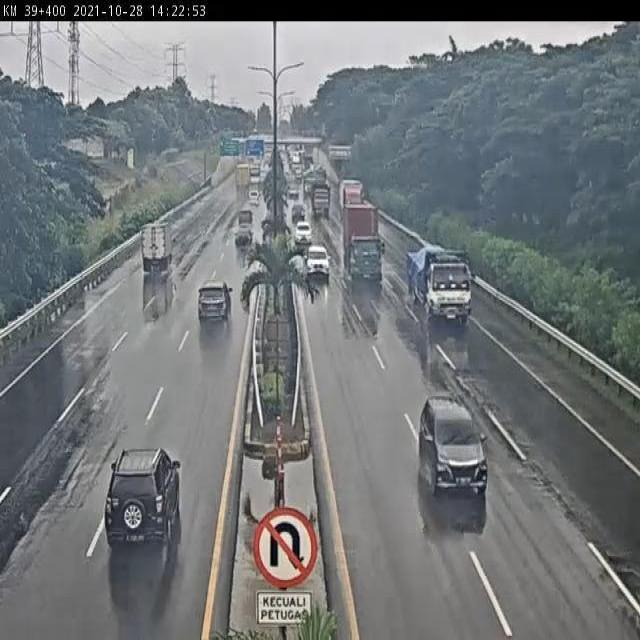car: (104, 448, 182, 545), (198, 283, 234, 321)
truck-l-: (405, 244, 473, 328)
truck-m-: (141, 221, 177, 272)
truck-xl-: (342, 204, 388, 288)
